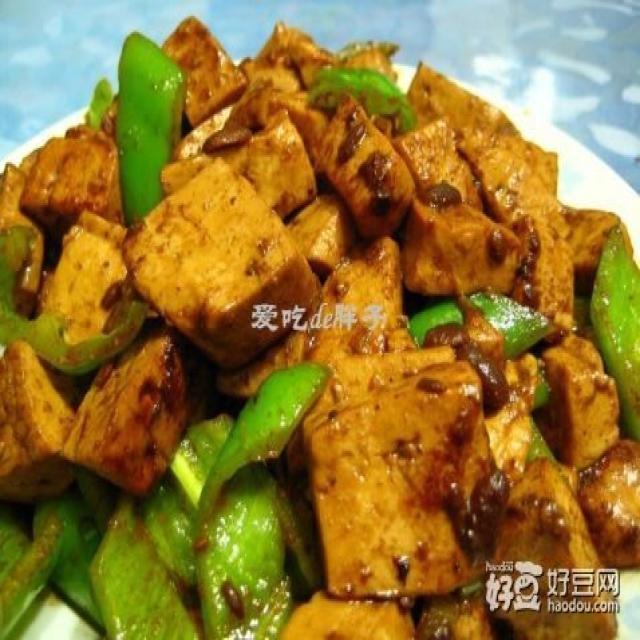豆腐料理: (6, 20, 630, 631)
